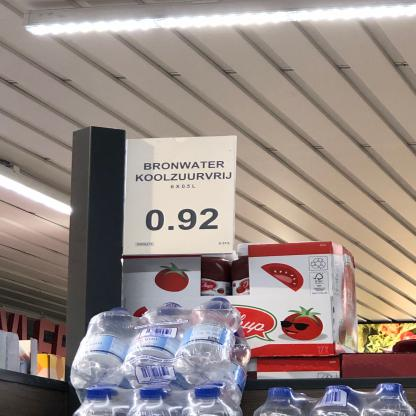prtg: (124, 137, 238, 257)
